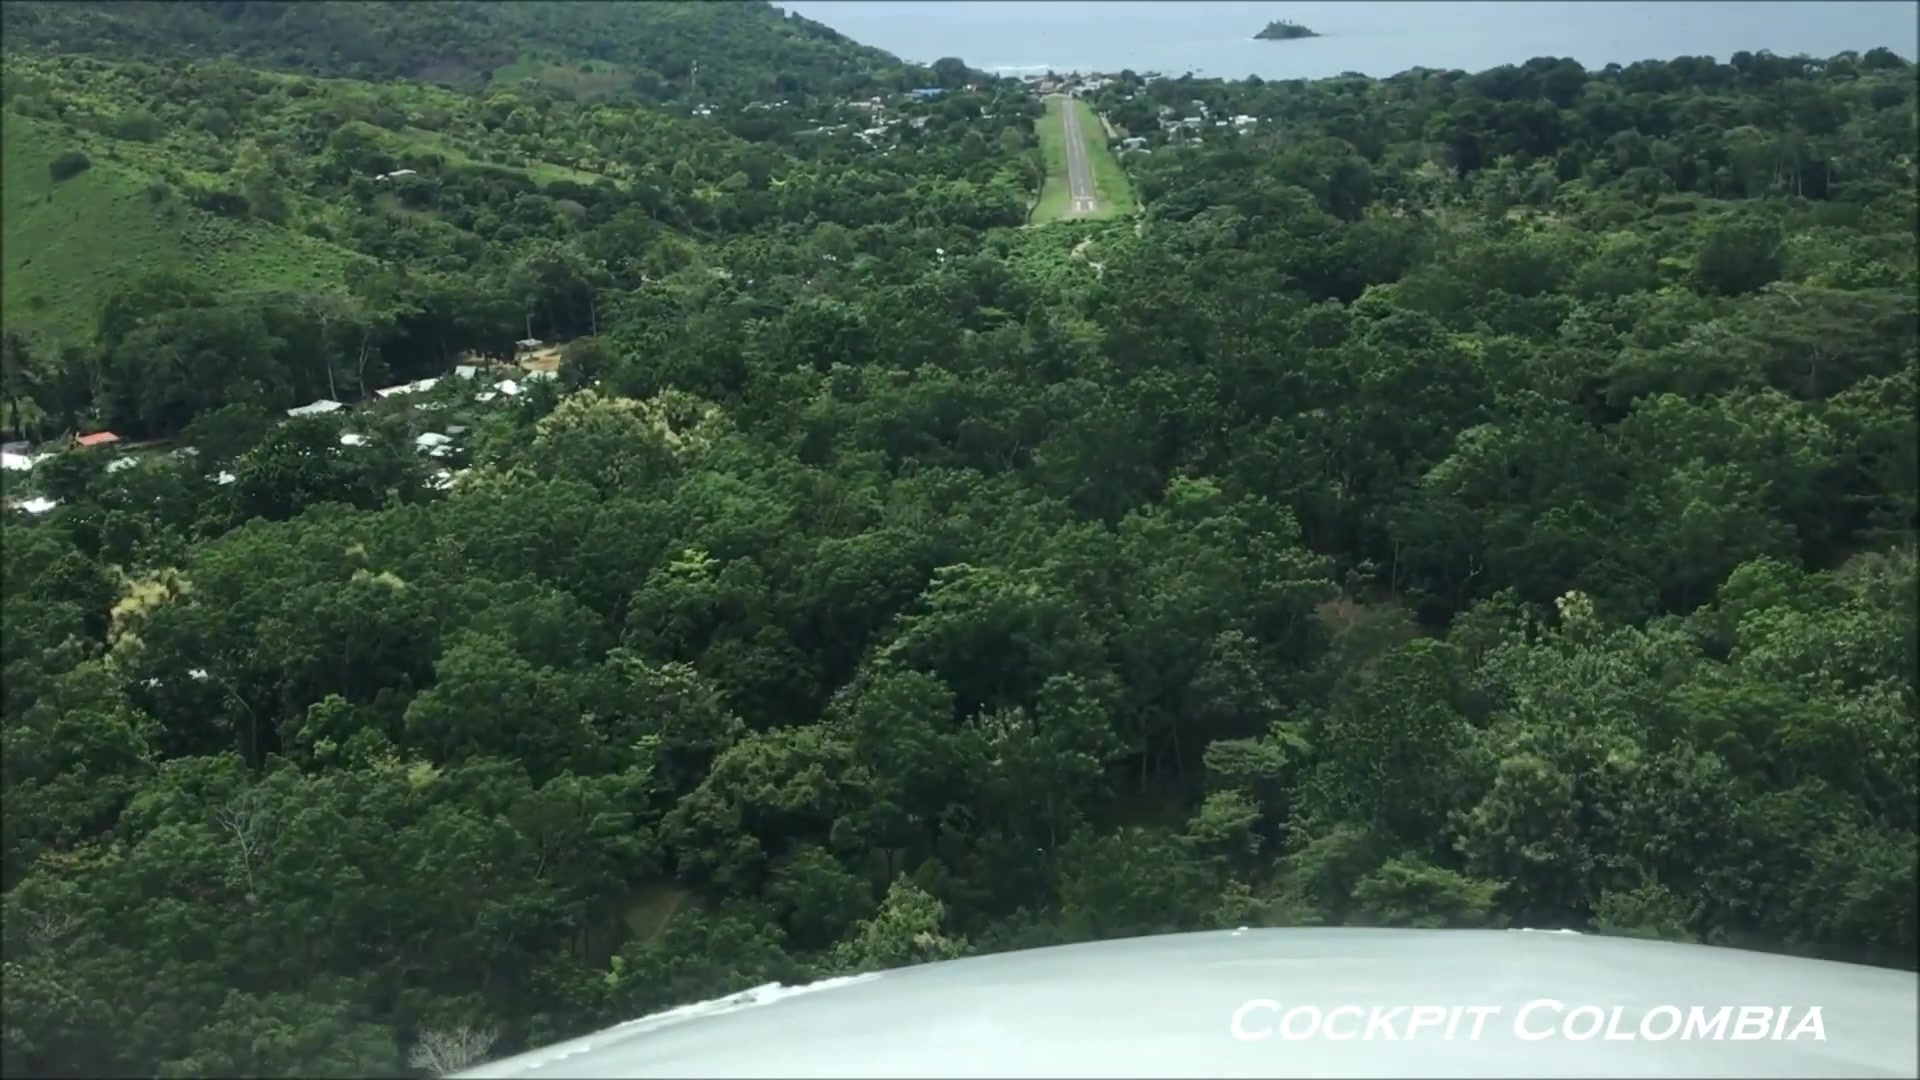runway: (1060, 102, 1098, 214)
